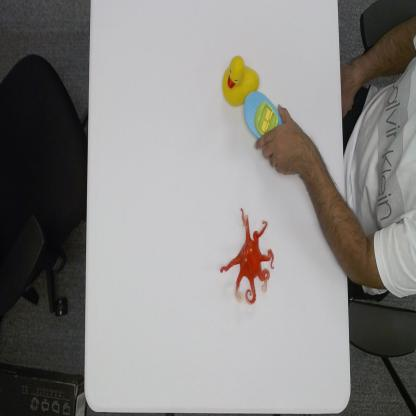Arm: (314, 141, 399, 289)
Boat: (243, 88, 282, 140)
Duck: (220, 53, 260, 108)
Hand: (256, 100, 312, 178)
Octopus: (219, 205, 276, 306)
